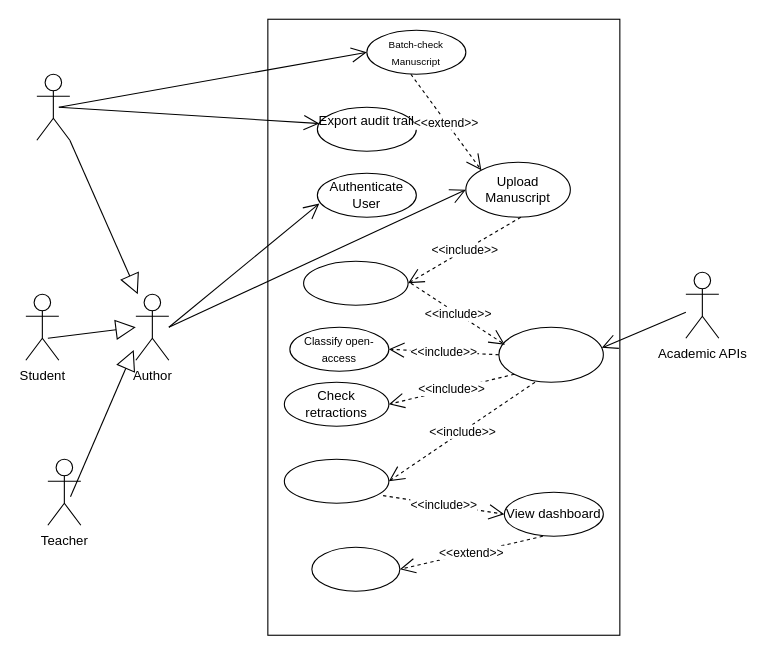
Image size: 766x655. Some labels were removed from this diagram. The shapes that lost their labels are listed below. From the top down, each one's centre as x and y in pixels, then its label:
the point at 53,106: Researcher
the point at 355,282: Extract Citations
the point at 550,354: Verify Citations
the point at 336,480: Semantic claim check
the point at 355,568: Download report
